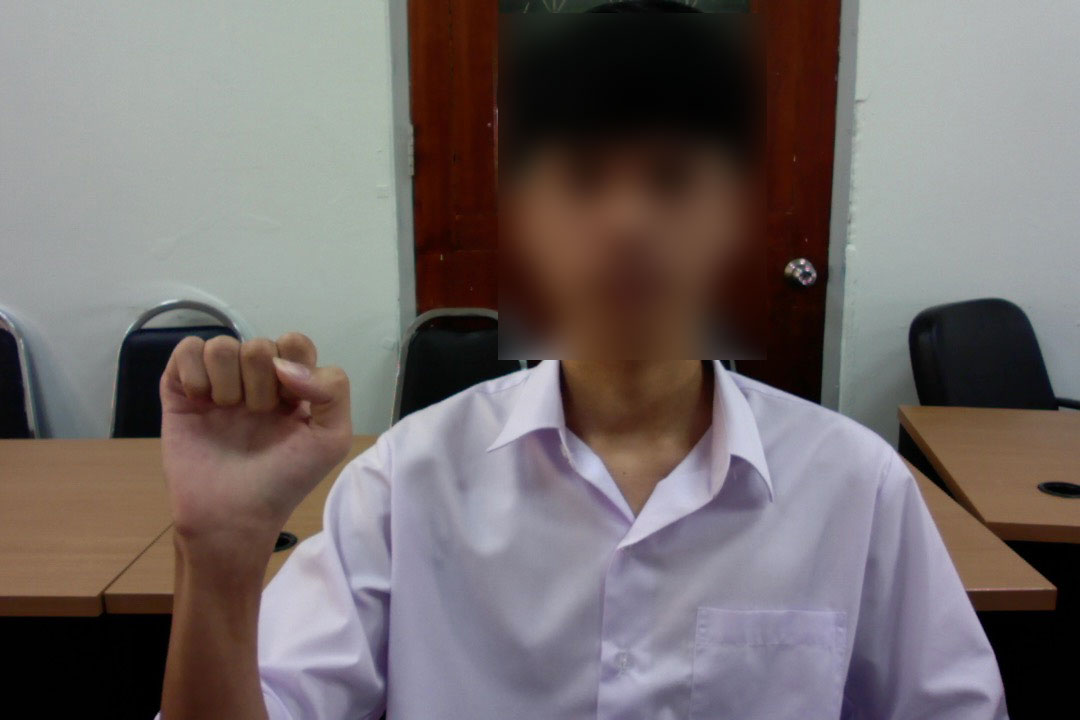sor: (148, 323, 358, 582)
